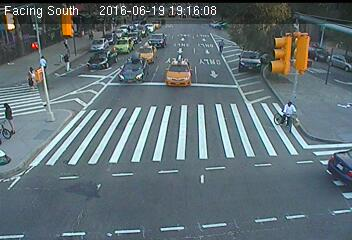neg: (287, 34, 317, 75), (174, 93, 194, 118), (105, 86, 123, 110), (208, 51, 221, 68), (247, 45, 257, 58)
pos: (22, 66, 40, 90), (60, 53, 75, 72)
